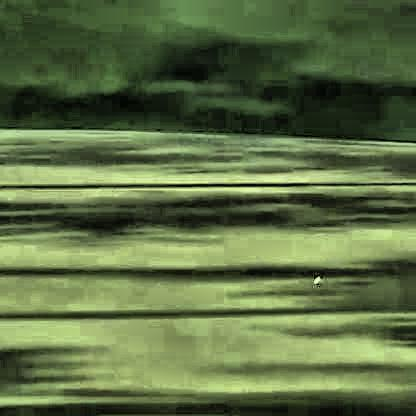golfball: (310, 272, 317, 282)
